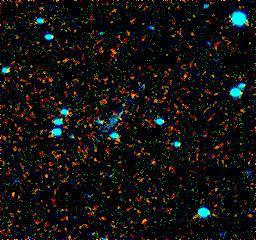star: (117, 80, 147, 110)
